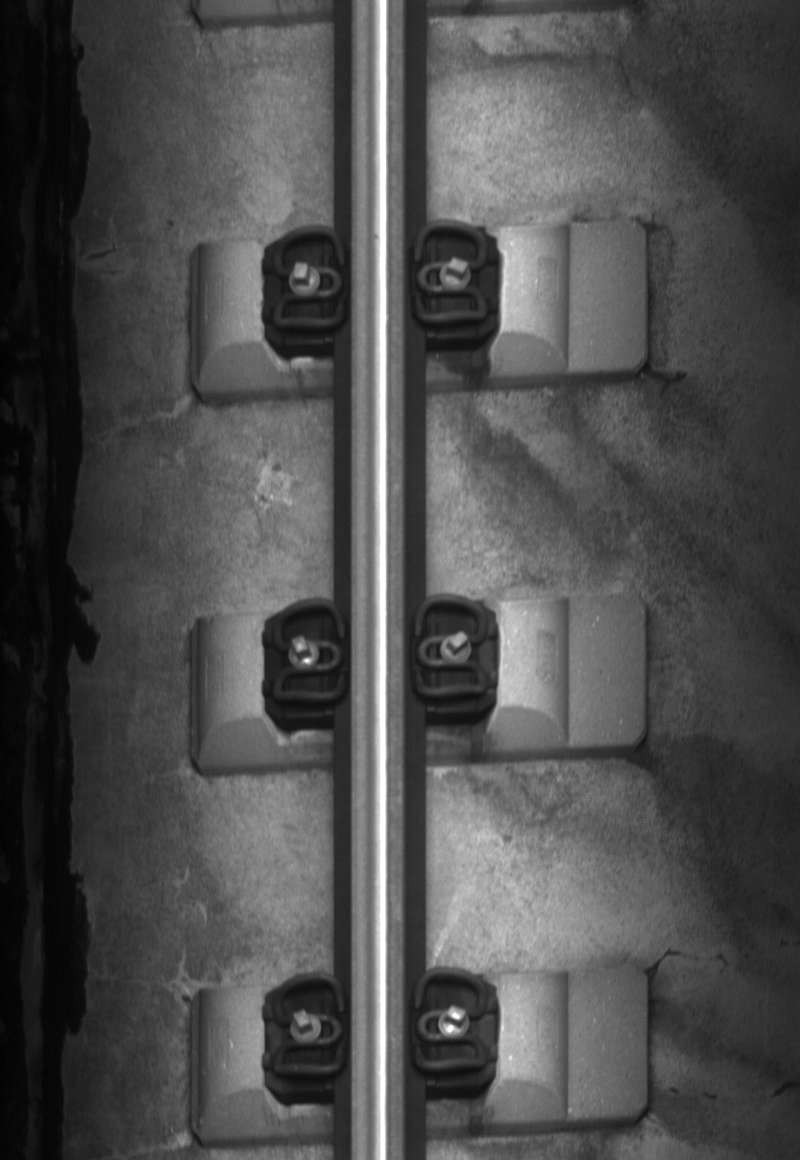l_faster: (266, 220, 350, 335), (266, 967, 350, 1081), (267, 596, 351, 708)
r_faster: (405, 217, 497, 331), (408, 966, 493, 1077), (410, 592, 493, 703)
